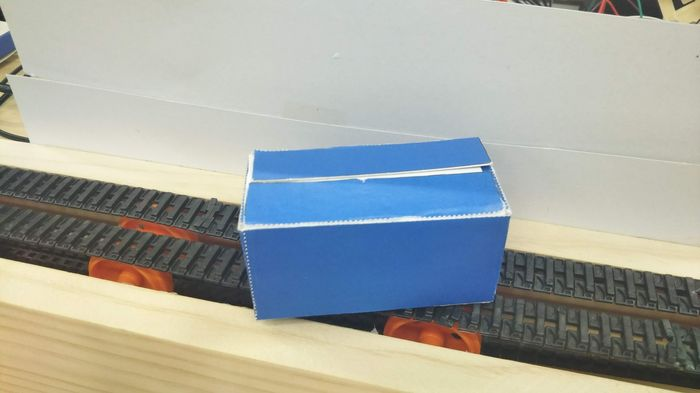box3: (234, 132, 511, 321)
